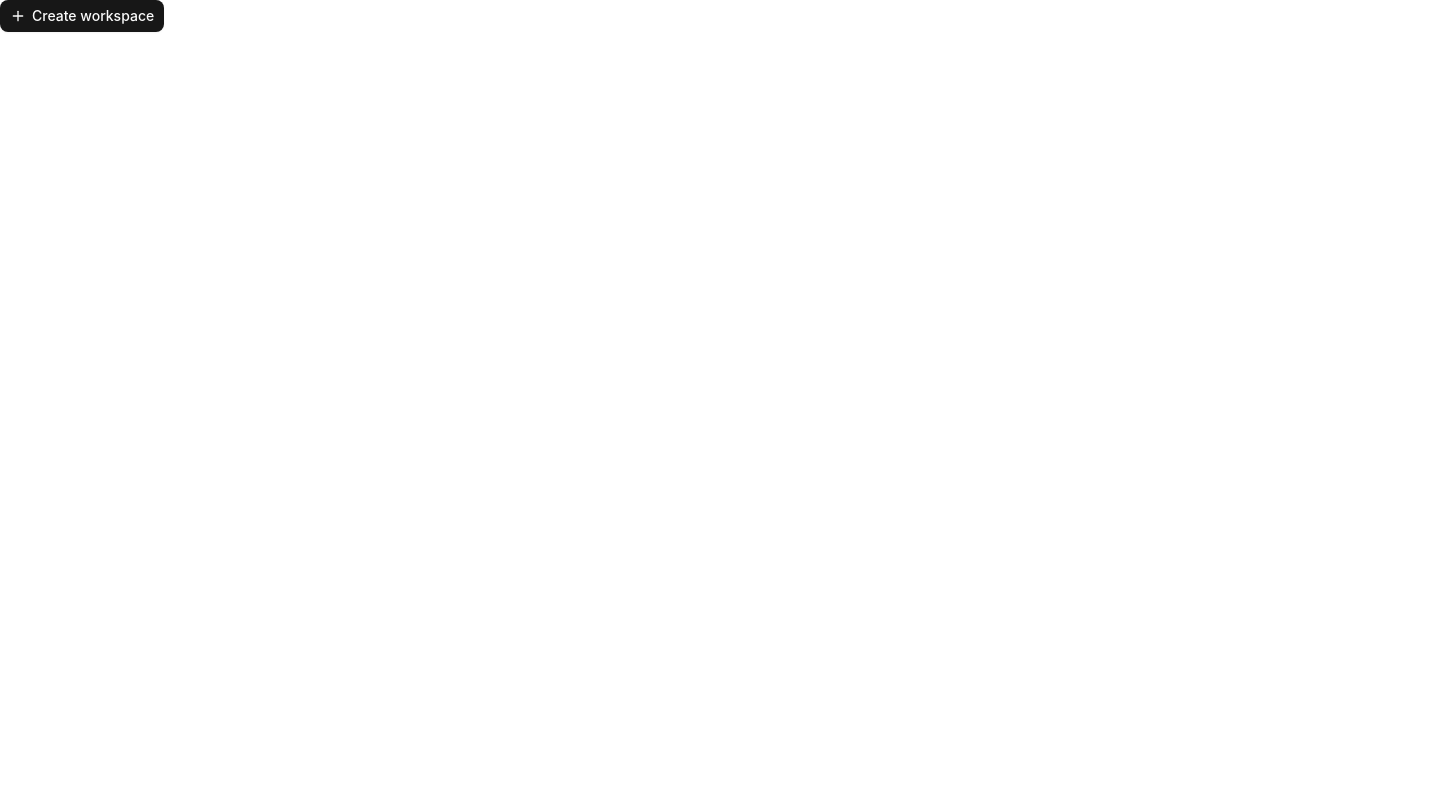
Test: CreateOrganizationDialog › creates a workspace inside a dialog and closes afterwards
Expected: the field labelled "Name" is not shown
Click the button "Create workspace" at (82, 16), box [0,0,164,32]
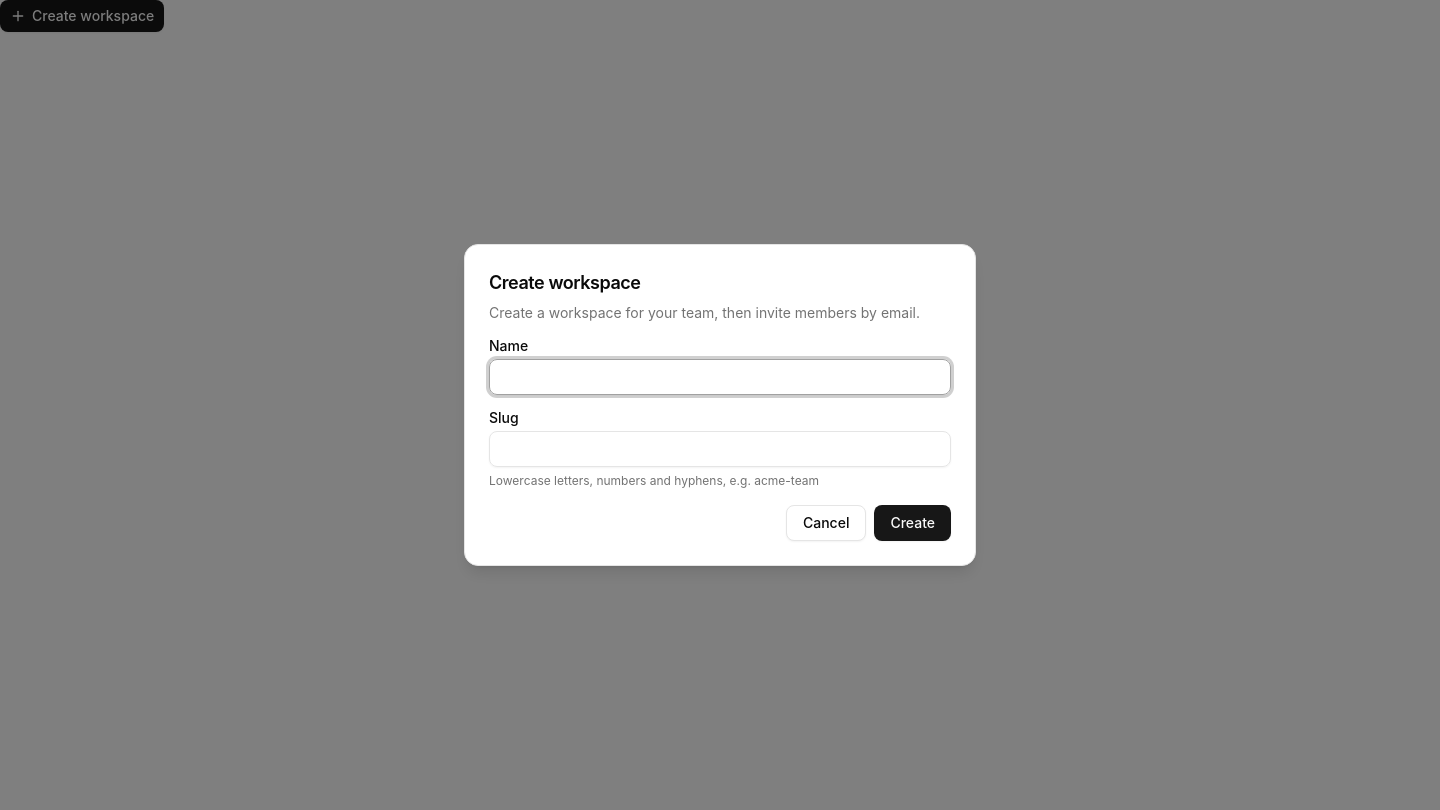
Type "Acme" into the field labelled "Name" at (720, 377), box [489,359,951,395]
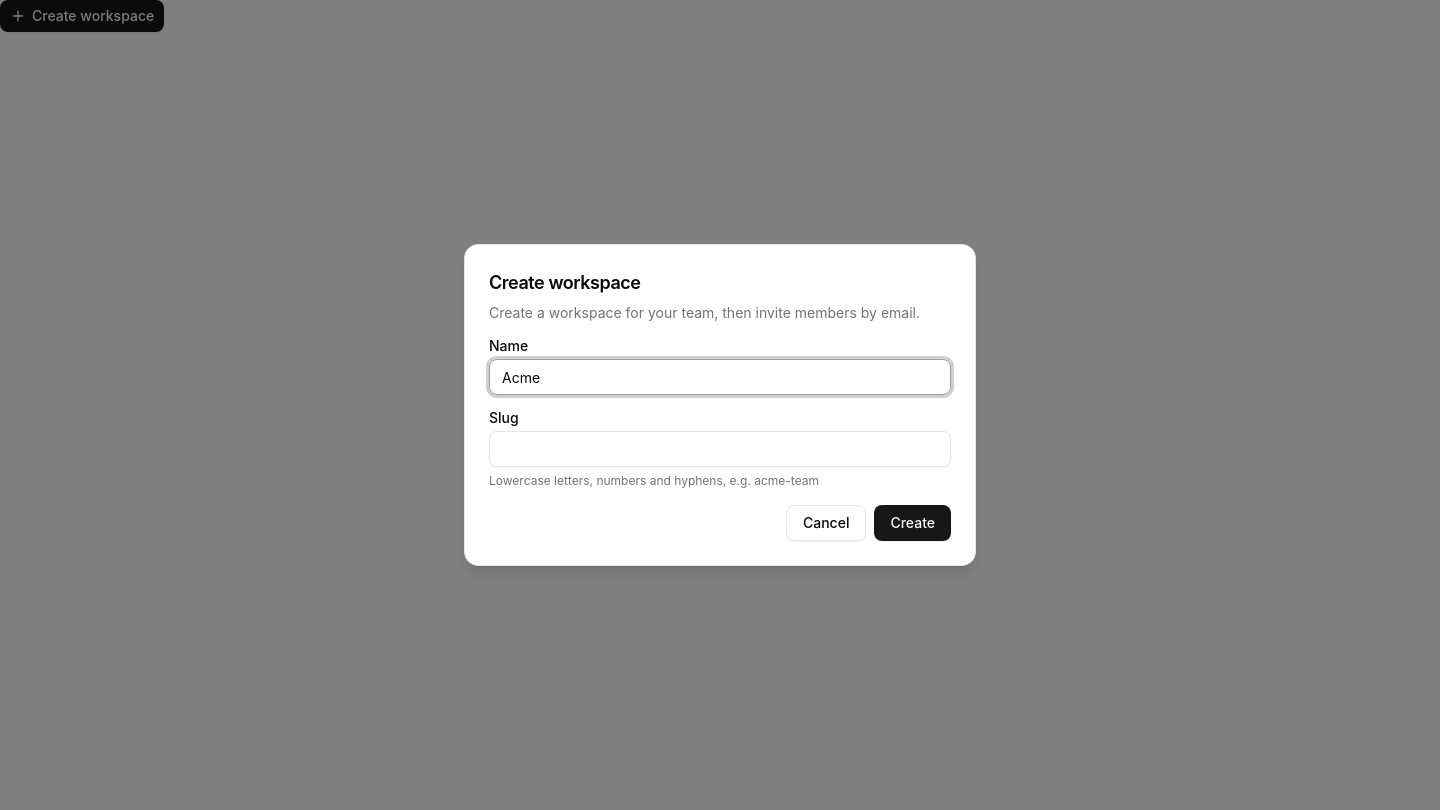
Type "acme" into the field labelled "Slug" at (720, 449), box [489,431,951,467]
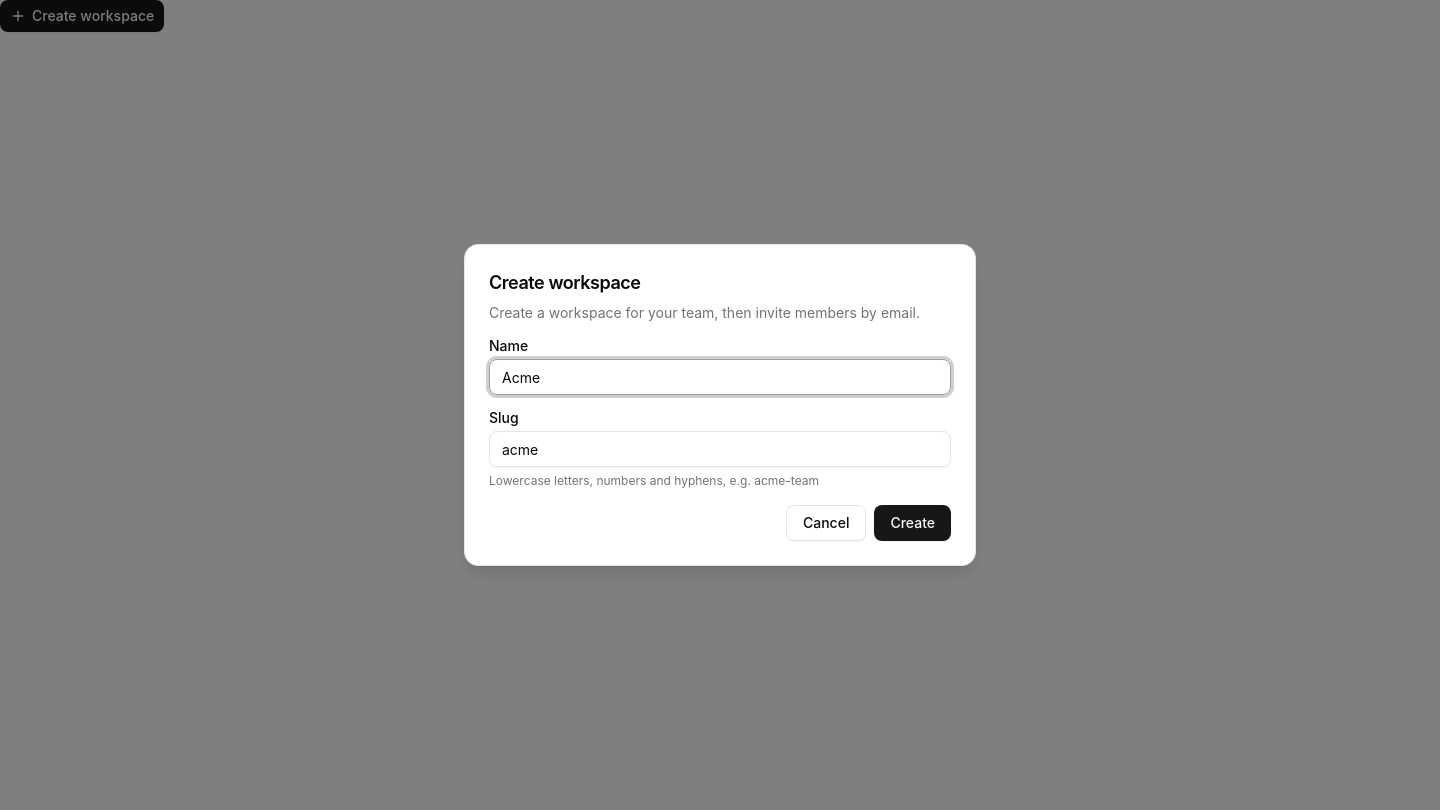
Click the button "Create" at (913, 523), box [874,505,951,541]
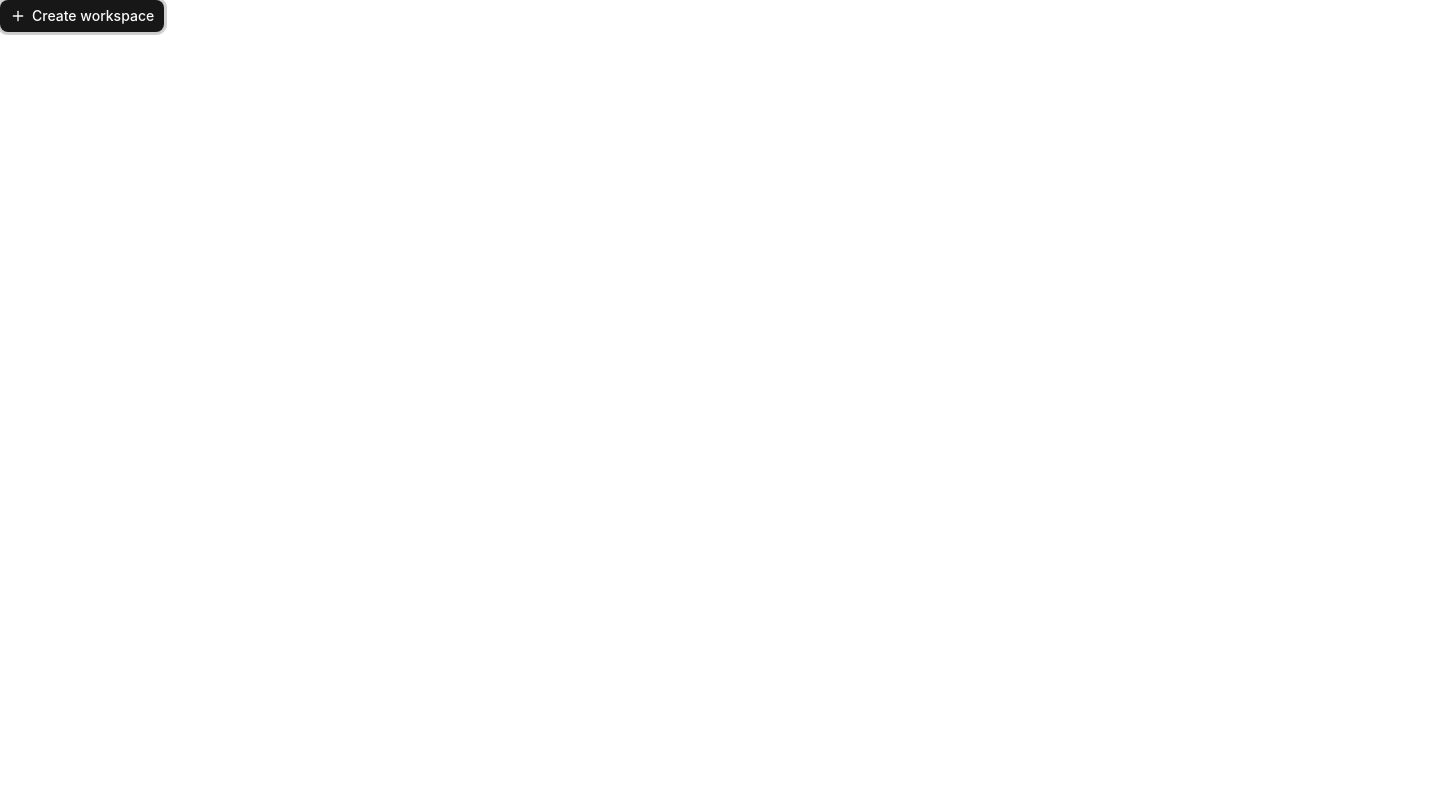
Expected: the dialog is gone
